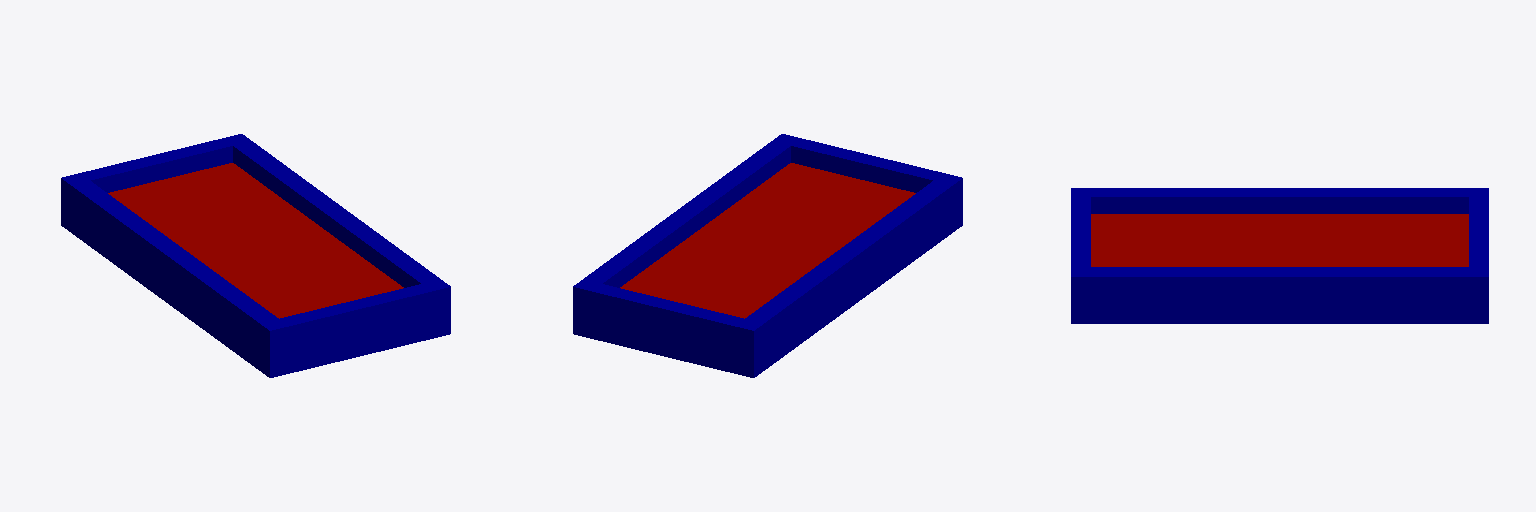
The model's file is board.obj.
3 renders of one model, left to right at view 1: azimuth 30°, elevation 25°; view 2: azimuth 150°, elevation 25°; view 3: azimuth 270°, elevation 25°, orthographic.
Visible parts, largest first — view 1: Cube; view 2: Cube; view 3: Cube.
Part boxes in pixels (left/top/right/bottom): Cube: left=61, top=134, right=450, bottom=377; Cube: left=573, top=134, right=962, bottom=377; Cube: left=1071, top=188, right=1488, bottom=323.
Bounding box in the file's own units: 2 × 0.5 × 4.